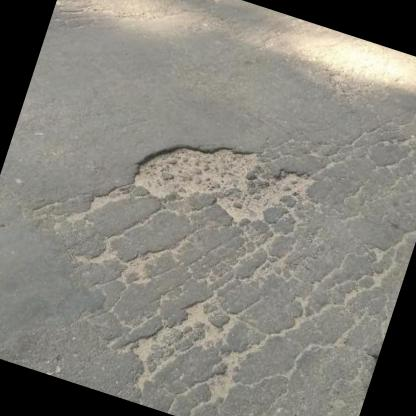pothole: (124, 115, 320, 246)
